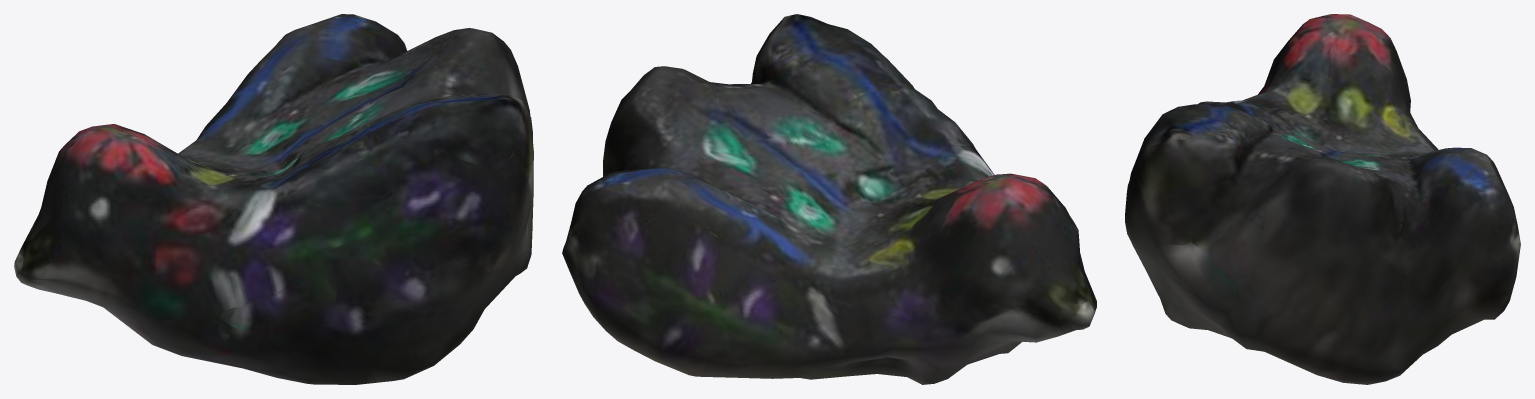
Rendered from hall.glb.
3 views of the same model, side by side, from view 1: azimuth 30°, elevation 25°; view 2: azimuth 150°, elevation 25°; view 3: azimuth 270°, elevation 25° (orthographic). The views are drawn at different scales.
Size of the model in its own units: 0.5618 by 0.2928 by 0.4305.
1 material, 1 textured.
